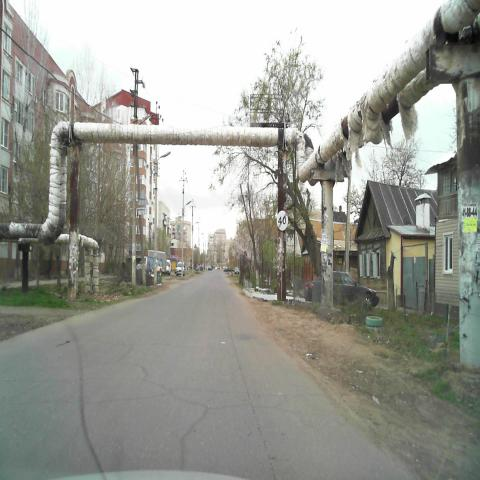3_25: (276, 210, 288, 231)
